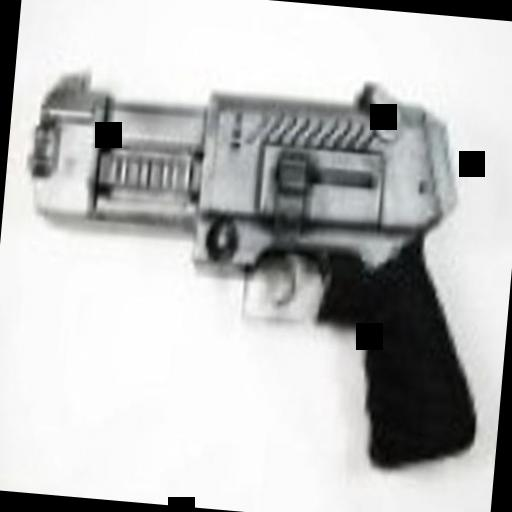Handgun: (8, 64, 506, 474)
